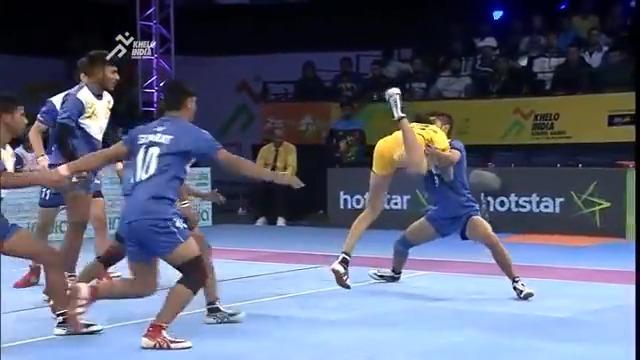Player: (16, 78, 298, 350), (13, 49, 124, 299), (415, 103, 521, 308)
Raider: (338, 87, 445, 287)
referee: (252, 120, 298, 226)
